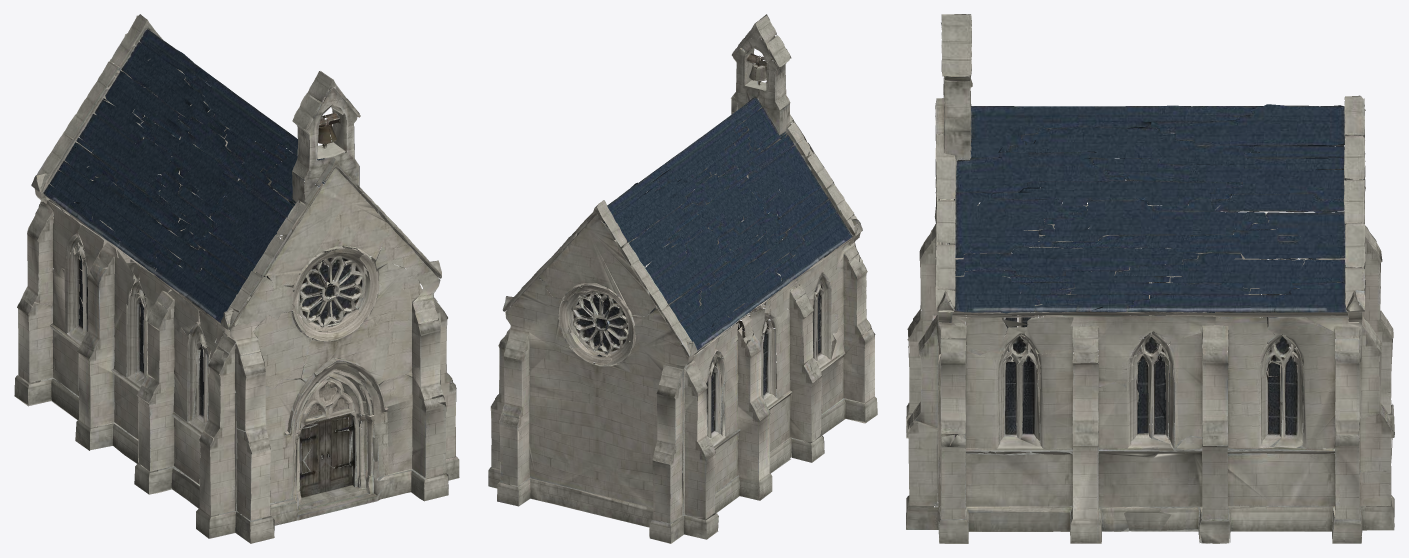
Rendered from chapelle.glb.
The picture shows the model from 3 angles, left to right: view 1: azimuth 30°, elevation 25°; view 2: azimuth 150°, elevation 25°; view 3: azimuth 270°, elevation 25°; orthographic projection. The views are drawn at different scales.
Parts seen in each view (by area): view 1: chapelle; view 2: chapelle; view 3: chapelle.
Boxes of the visible parts, box(x1,y1,x2,y2) form: chapelle: box(14, 14, 459, 543); chapelle: box(488, 14, 877, 543); chapelle: box(906, 14, 1394, 543).
Bounding box in the file's own units: 7.96 × 13.04 × 12.41.
1 material, 1 textured.
